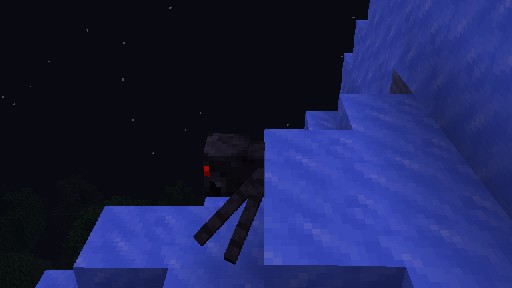spider: (192, 130, 351, 265)
